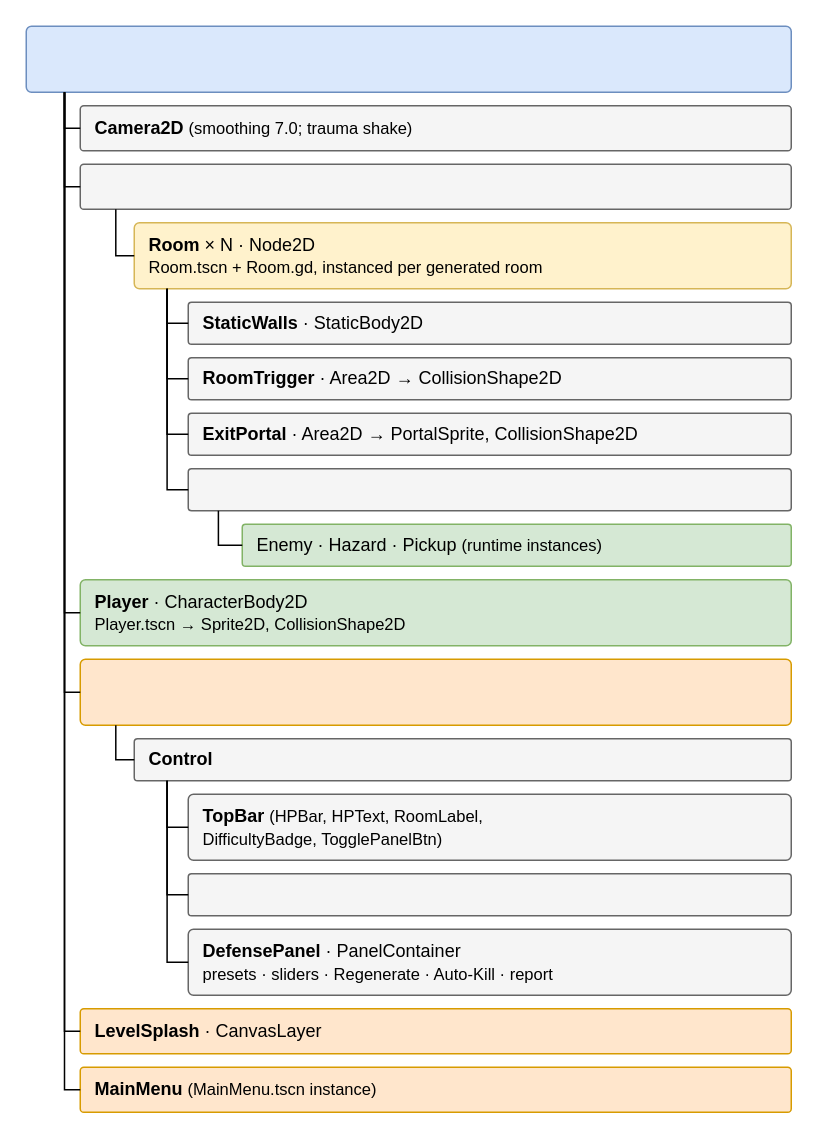
Some shapes in this 818 by 1139 pixel diagram are drawn without their labels. Each missing label, with the centre of its shape:
"DefenseOverlay · CanvasLayer DefenseOverlay.gd" goes at [435,691].
"DungeonContainer · Node2D" goes at [435,186].
"EntitiesContainer · Node2D" goes at [489,489].
"Main · Node2D Main.gd — run orchestrator" goes at [408,58].
"MiniMap · Control (MiniMap.gd)" goes at [489,894].
